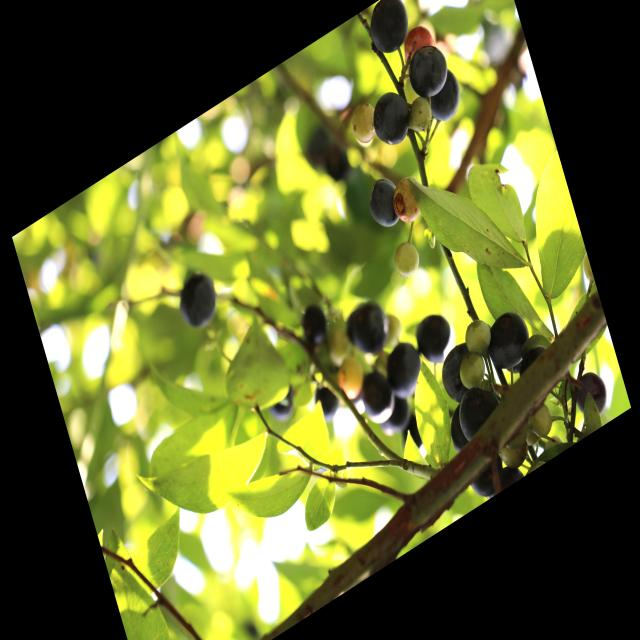blueberry: (435, 335, 488, 413), (173, 263, 225, 342), (482, 304, 537, 378), (343, 293, 394, 370), (452, 377, 505, 449), (384, 334, 432, 406), (402, 37, 452, 103), (367, 84, 415, 152), (414, 308, 459, 375), (358, 363, 401, 433), (364, 0, 414, 60), (422, 65, 466, 129), (462, 445, 508, 504), (569, 364, 612, 426), (364, 173, 404, 234), (299, 301, 330, 350)
blueberry-unripe: (389, 169, 427, 230), (384, 232, 422, 285), (348, 101, 380, 150), (456, 349, 489, 394), (463, 313, 492, 359)
